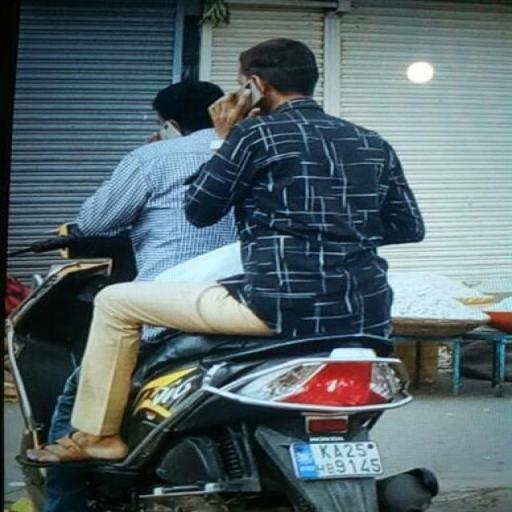numberplate: (292, 440, 393, 482)
using mobile: (241, 68, 285, 116), (148, 118, 191, 142)
